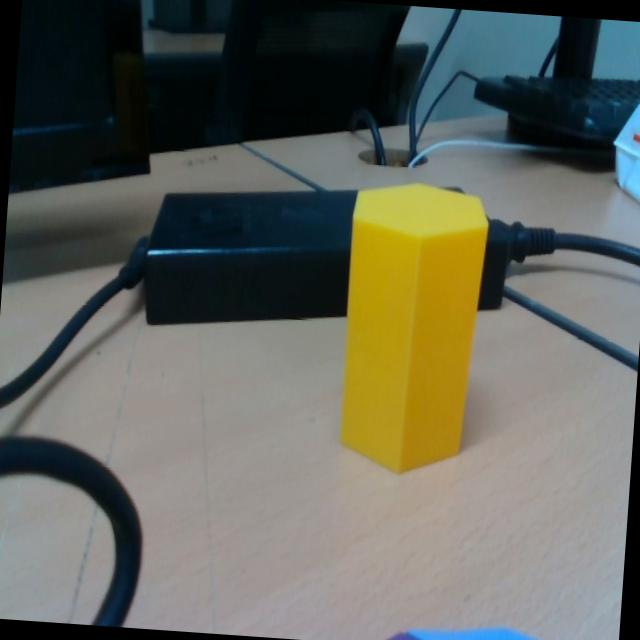hexagon: (341, 184, 487, 471)
